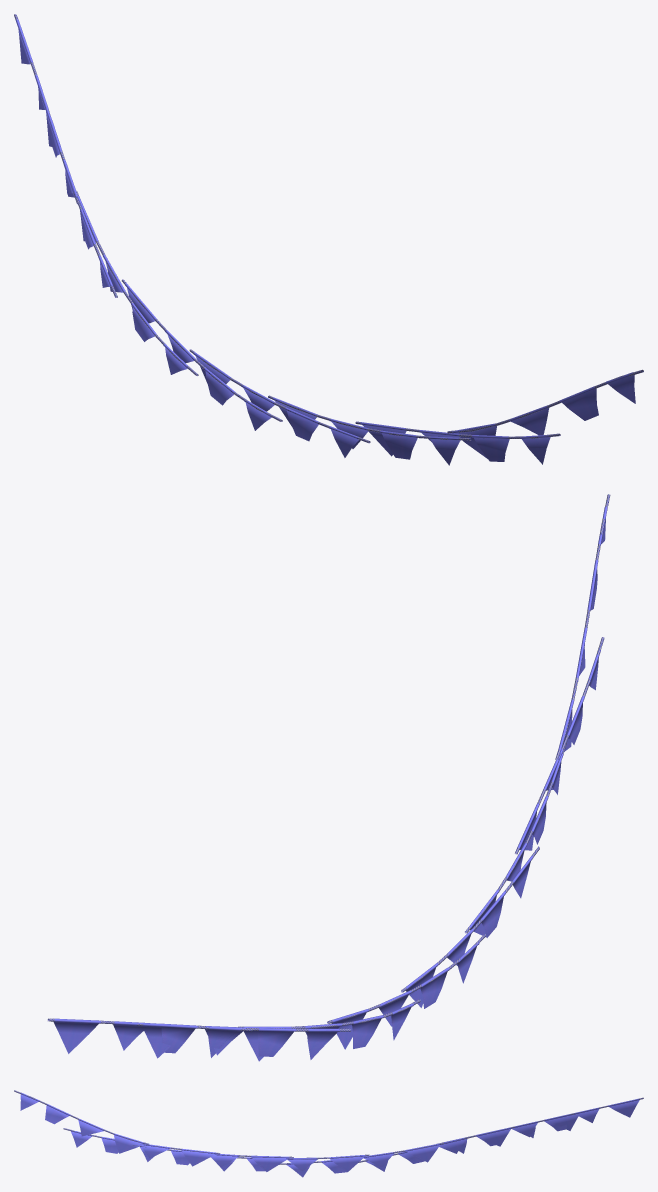
The model's file is SM_rope_flags_01_Splines_1.fbx.
The picture shows the model from 3 angles, top to bottom: view 1: azimuth 30°, elevation 25°; view 2: azimuth 150°, elevation 25°; view 3: azimuth 270°, elevation 25°; orthographic projection. The views are drawn at different scales.
Visible parts, largest first — view 1: SM_rope_flags_01_Splines_1_LOD0; view 2: SM_rope_flags_01_Splines_1_LOD0; view 3: SM_rope_flags_01_Splines_1_LOD0.
Boxes of the visible parts, left/top/right/bottom form: SM_rope_flags_01_Splines_1_LOD0: left=14, top=14, right=643, bottom=465; SM_rope_flags_01_Splines_1_LOD0: left=47, top=494, right=610, bottom=1061; SM_rope_flags_01_Splines_1_LOD0: left=14, top=1090, right=643, bottom=1177.
Bounding box in the file's own units: 252 × 1662 × 355.
